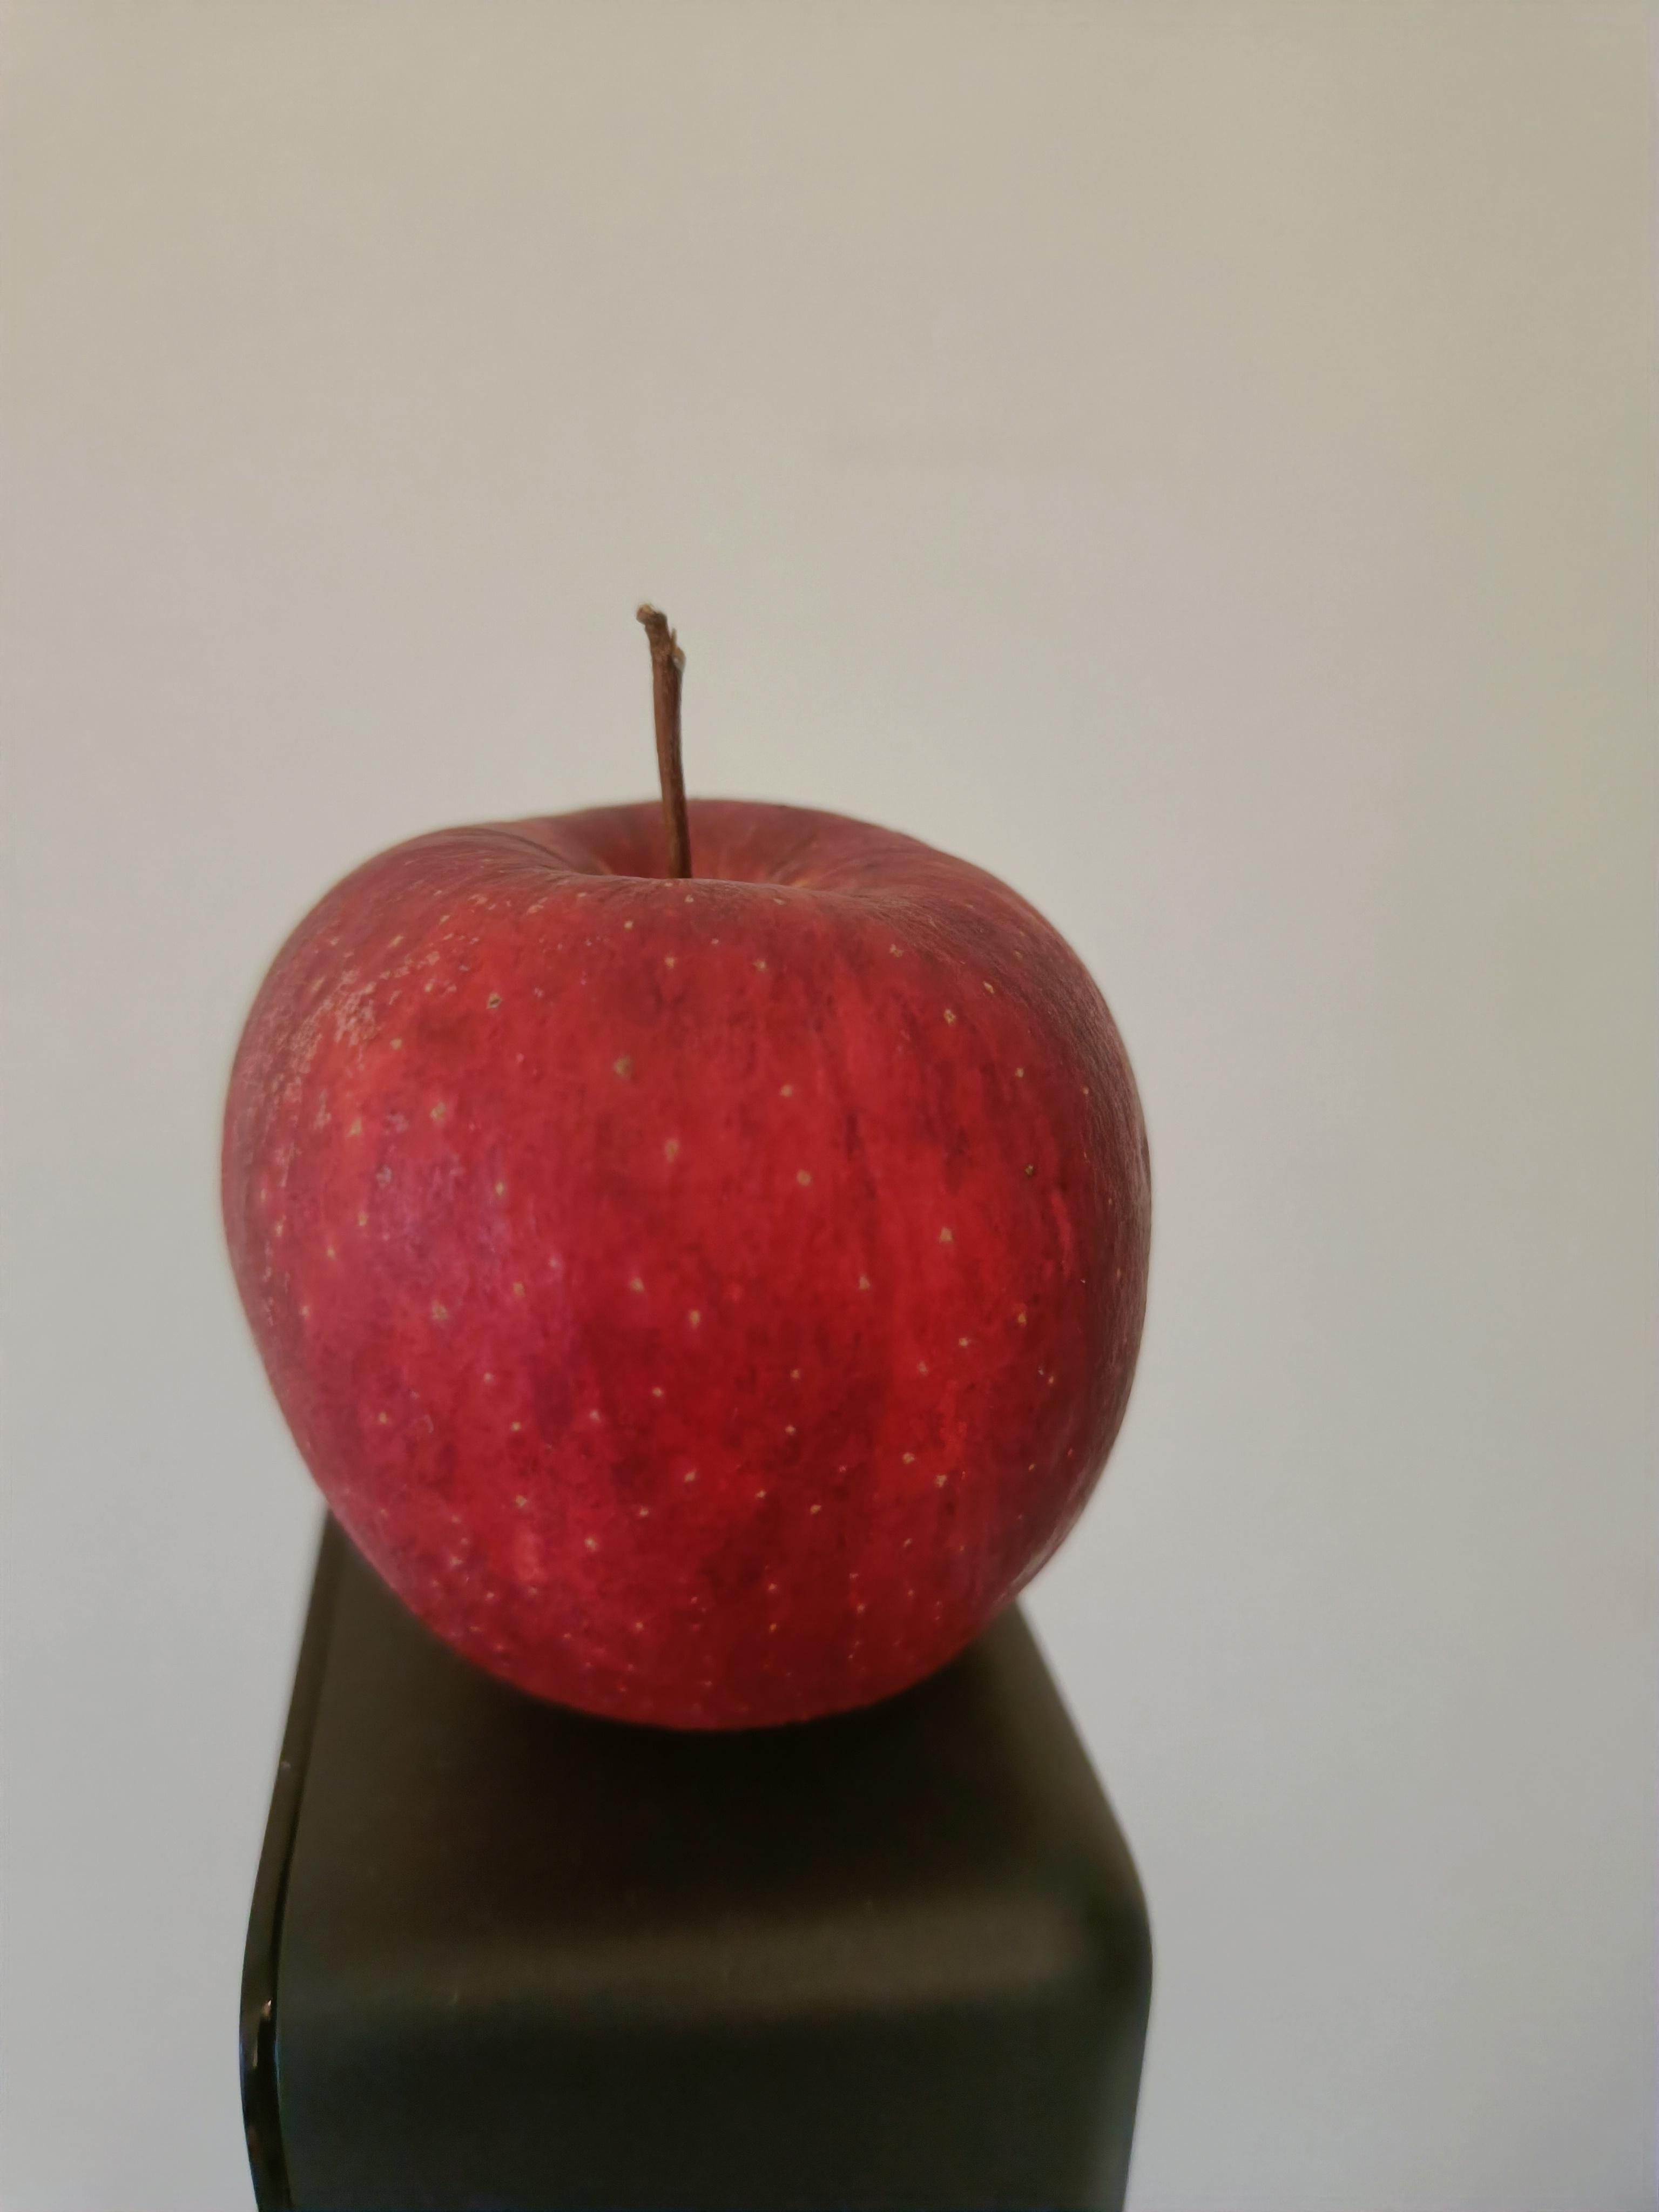Apple: (207, 573, 1176, 1728)
